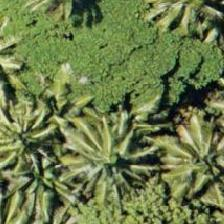coconut_tree: (55, 93, 145, 183), (0, 83, 82, 173), (157, 107, 223, 197)
